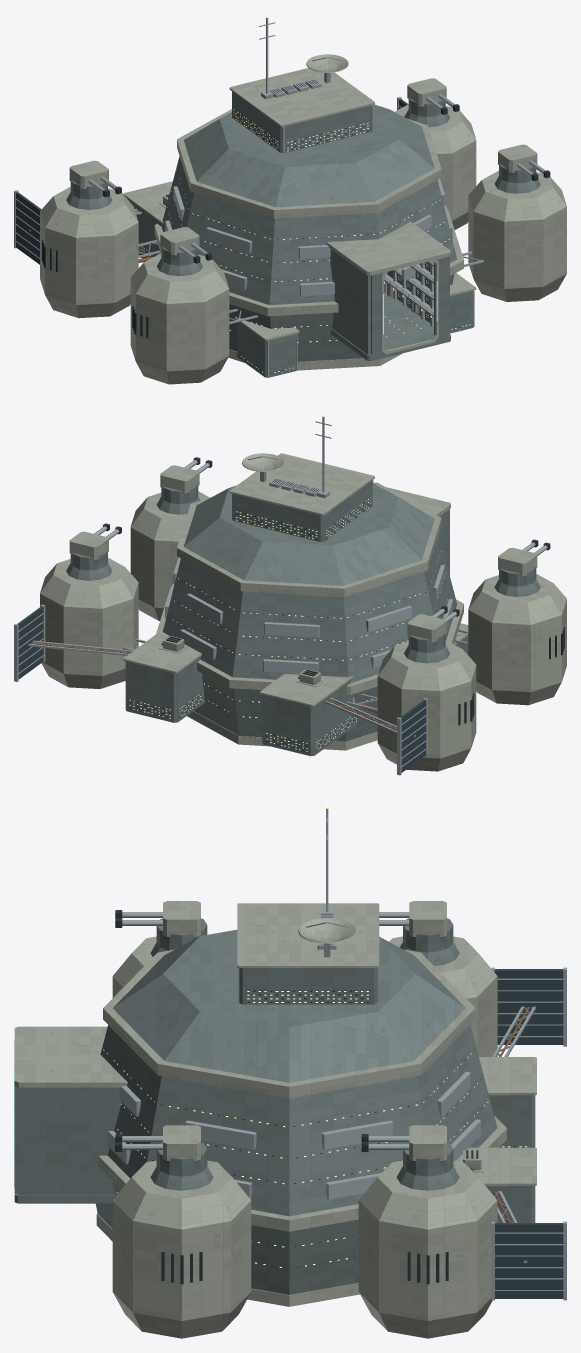
The model's file is rook.glb.
3 renders of one model, top to bottom at view 1: azimuth 30°, elevation 25°; view 2: azimuth 150°, elevation 25°; view 3: azimuth 270°, elevation 25°, orthographic. The views are drawn at different scales.
Parts seen in each view (by area): view 1: rook / armor, rook / hull, rook / metal, rook / radiator, rook / dark, rook / warm; view 2: rook / armor, rook / hull, rook / metal, rook / radiator, rook / dark, rook / warm; view 3: rook / hull, rook / armor, rook / metal, rook / radiator, rook / dark.
Boxes of the visible parts, x1,y1,x2,y2 form: rook / armor: (40,54,566,384); rook / hull: (66,91,540,377); rook / metal: (14,17,545,377); rook / radiator: (16,99,407,264); rook / dark: (42,80,550,371); rook / warm: (139,14,470,372); rook / armor: (40,453,566,771); rook / hull: (66,480,540,756); rook / metal: (14,416,547,775); rook / radiator: (17,606,425,772); rook / dark: (103,457,564,751); rook / warm: (129,413,449,751); rook / hull: (14,918,535,1294); rook / armor: (14,901,536,1338); rook / metal: (107,808,566,1300); rook / radiator: (495,969,563,1298); rook / dark: (115,910,527,1284).
Bounding box in the file's own units: 161 × 114 × 132.
10 materials, 4 textured.
